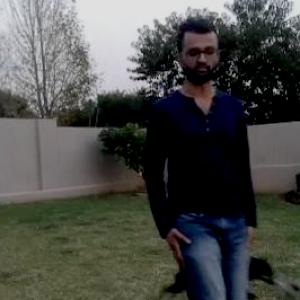follow: (155, 24, 257, 299)
